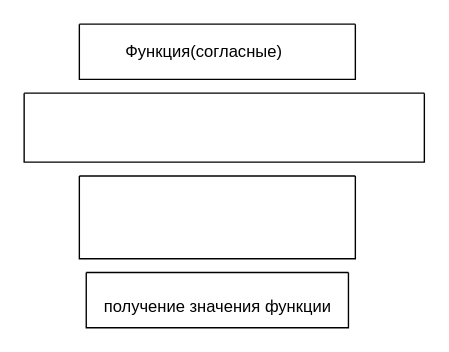
Some shapes in this 449 by 352 pixel diagram are drawn without their labels. Each missing label, with the box of its shape:
вывод фразы в скобках(count): (78, 175, 355, 259)
если согласные на четной позиции то count +1: (23, 92, 424, 162)
